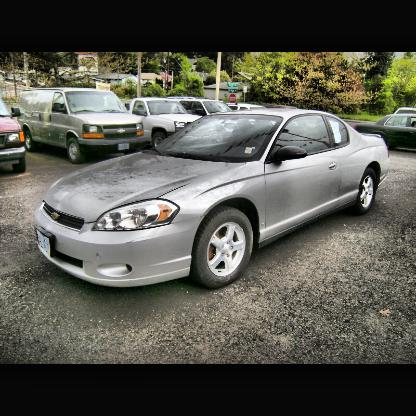Chevrolet Monte Carlo Coupe 2007: (36, 111, 393, 291)
